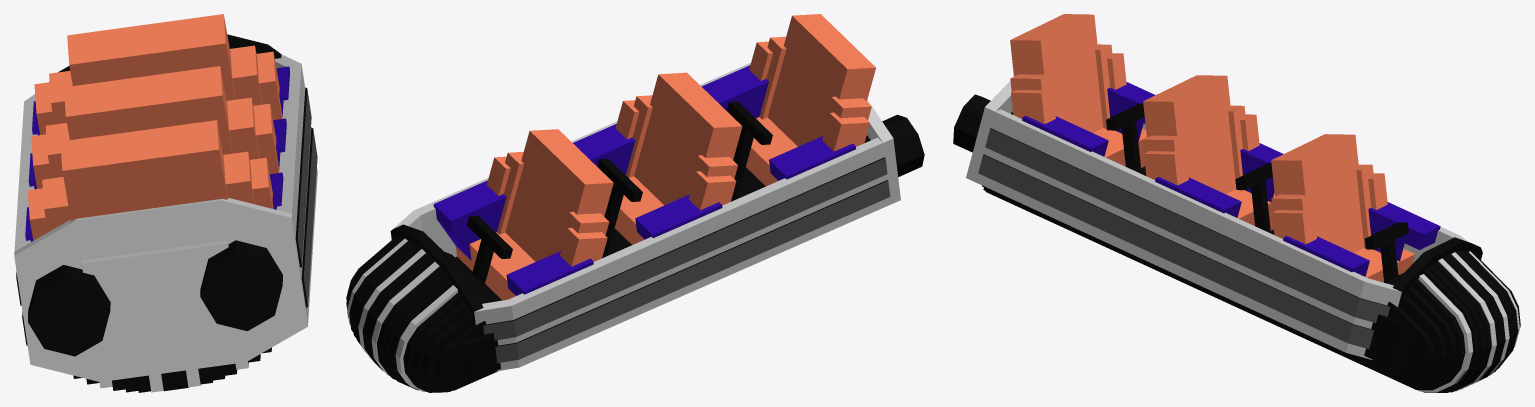
Rendered from roller_coaster_car.fbx.
3 views of the same model, side by side, from view 1: azimuth 30°, elevation 25°; view 2: azimuth 150°, elevation 25°; view 3: azimuth 270°, elevation 25° (orthographic). The views are drawn at different scales.
Visible parts, largest first — view 1: roller_coaster_car; view 2: roller_coaster_car; view 3: roller_coaster_car.
Part boxes in pixels (box(x1,y1,x2,y2)): roller_coaster_car: box(14, 14, 317, 392); roller_coaster_car: box(346, 14, 924, 392); roller_coaster_car: box(953, 14, 1520, 392).
Size of the model in its own units: 0.2859 by 0.1843 by 0.3645.
